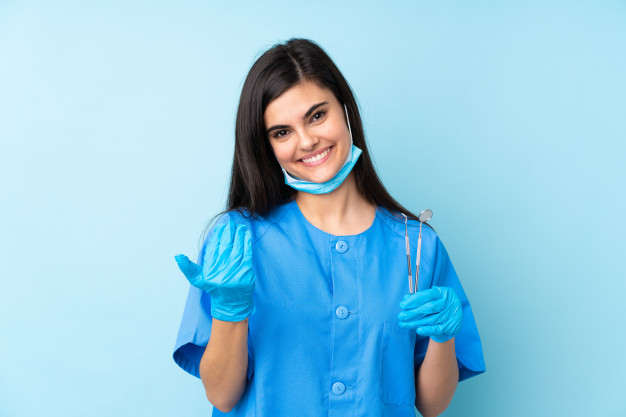mask_weared_incorrect: (265, 83, 357, 202)
